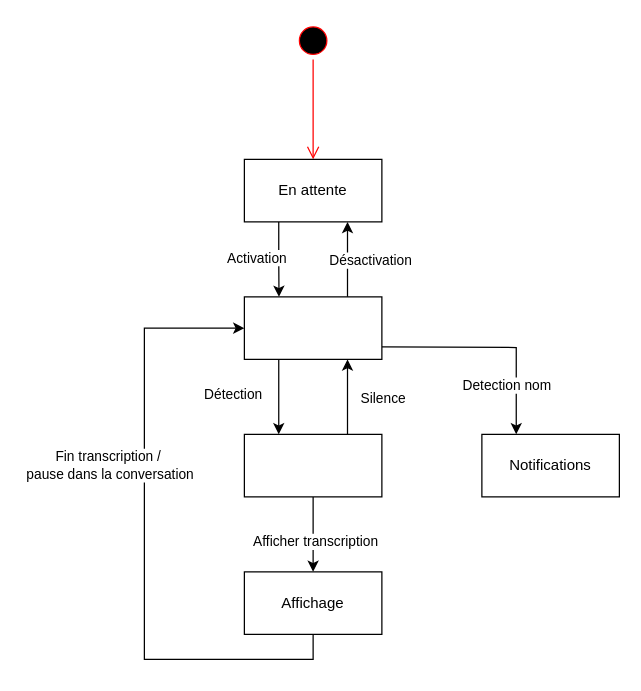
Image size: 641x691. Some labels were removed from this diagram. Each missing label, with the centre of its shape:
"Enregistrement et analyse" goes at point 312,327.
"Transcription" goes at point 312,465.
